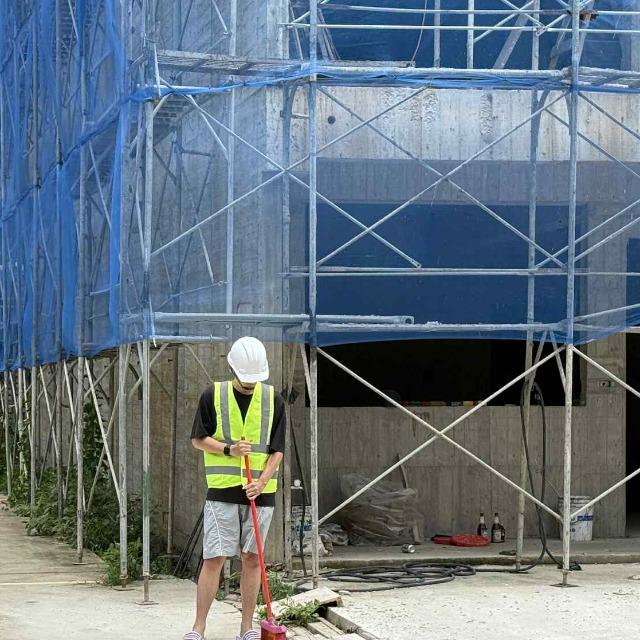Vest: (200, 380, 286, 500)
